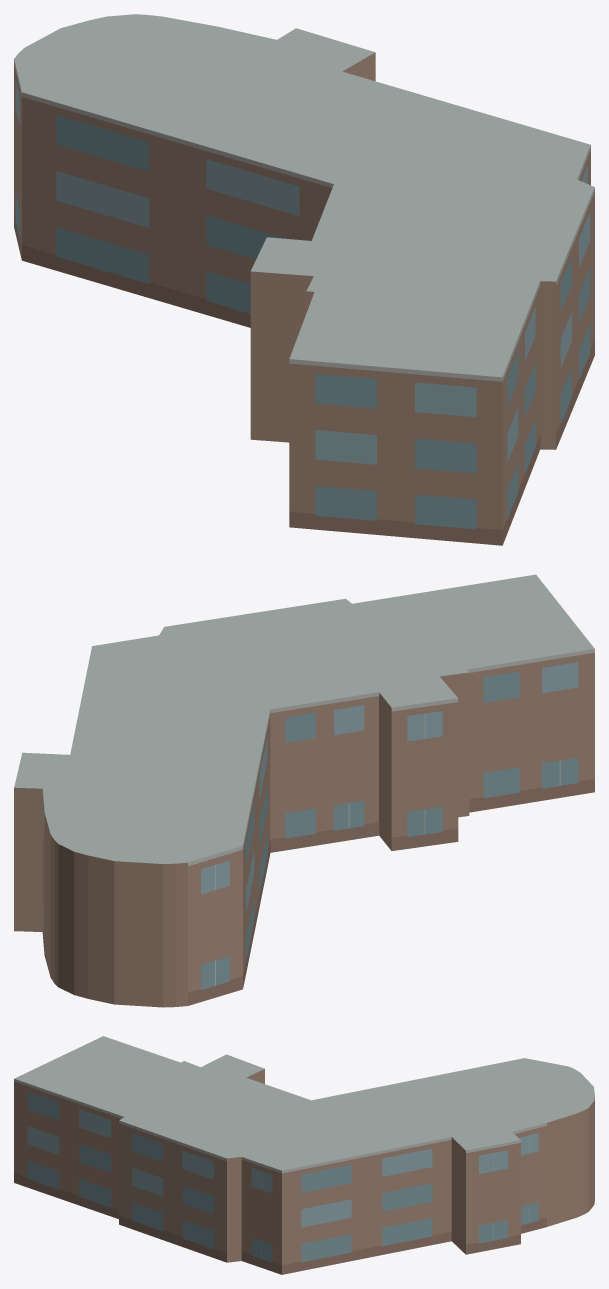
The model's file is survey-upis-32582062.glb.
The picture shows the model from 3 angles, top to bottom: view 1: azimuth 30°, elevation 25°; view 2: azimuth 150°, elevation 25°; view 3: azimuth 270°, elevation 25°; orthographic projection. The views are drawn at different scales.
Parts seen in each view (by area): view 1: survey-upis-32582062.tmp; view 2: survey-upis-32582062.tmp; view 3: survey-upis-32582062.tmp.
Boxes of the visible parts, x1,y1,x2,y2 form: survey-upis-32582062.tmp: (14,14,594,545); survey-upis-32582062.tmp: (14,574,594,1007); survey-upis-32582062.tmp: (14,1036,594,1274).
Size of the model in its own units: 25.38 by 9.15 by 46.25.
